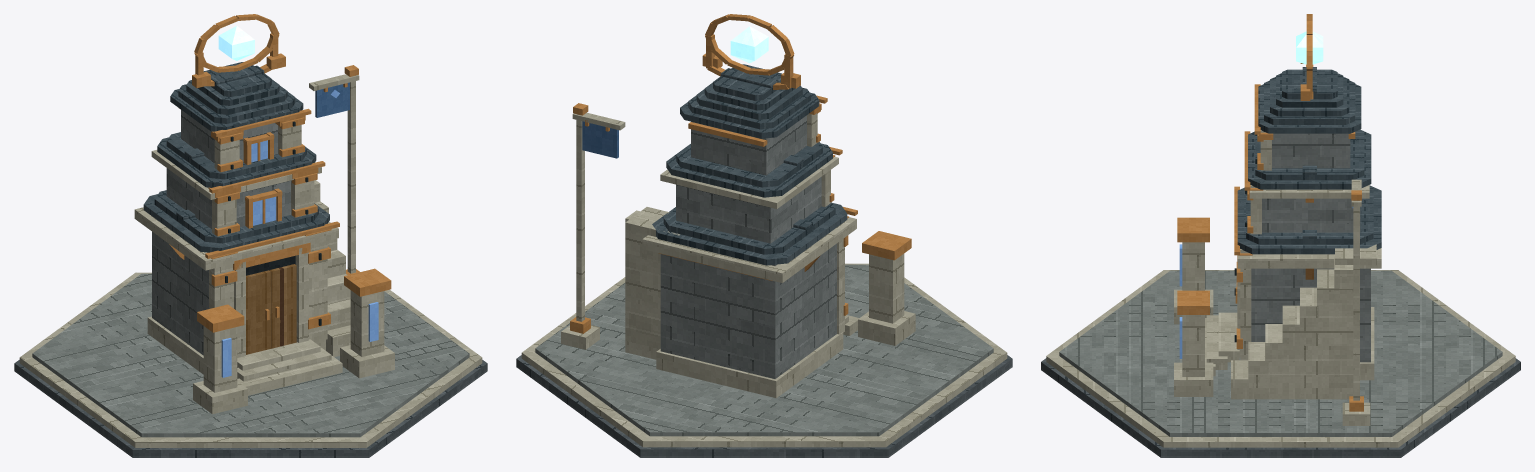
File: dwarf_arcane_ritual_hex_v1.glb
The picture shows the model from 3 angles, left to right: view 1: azimuth 30°, elevation 25°; view 2: azimuth 150°, elevation 25°; view 3: azimuth 270°, elevation 25°; orthographic projection. The views are drawn at different scales.
Parts seen in each view (by area): view 1: Dwarf_Arcane_Ritual_Hex_V1_Foundation, Dwarf_Arcane_Ritual_Hex_V1_Roofs, Dwarf_Arcane_Ritual_Hex_V1_Hall, Dwarf_Arcane_Ritual_Hex_V1_Details, Dwarf_Arcane_Ritual_Hex_V1_Training, Dwarf_Arcane_Ritual_Hex_V1_Courtyard, Dwarf_Arcane_Ritual_Hex_V1_Faction, Dwarf_Arcane_Ritual_Hex_V1_Focus; view 2: Dwarf_Arcane_Ritual_Hex_V1_Foundation, Dwarf_Arcane_Ritual_Hex_V1_Hall, Dwarf_Arcane_Ritual_Hex_V1_Roofs, Dwarf_Arcane_Ritual_Hex_V1_Courtyard, Dwarf_Arcane_Ritual_Hex_V1_Training, Dwarf_Arcane_Ritual_Hex_V1_Faction, Dwarf_Arcane_Ritual_Hex_V1_Focus, Dwarf_Arcane_Ritual_Hex_V1_Details; view 3: Dwarf_Arcane_Ritual_Hex_V1_Foundation, Dwarf_Arcane_Ritual_Hex_V1_Roofs, Dwarf_Arcane_Ritual_Hex_V1_Courtyard, Dwarf_Arcane_Ritual_Hex_V1_Hall, Dwarf_Arcane_Ritual_Hex_V1_Training, Dwarf_Arcane_Ritual_Hex_V1_Details, Dwarf_Arcane_Ritual_Hex_V1_Faction, Dwarf_Arcane_Ritual_Hex_V1_Focus.
Boxes of the visible parts, <box> form: Dwarf_Arcane_Ritual_Hex_V1_Foundation: <box>14,272,487,457</box>; Dwarf_Arcane_Ritual_Hex_V1_Roofs: <box>134,62,339,270</box>; Dwarf_Arcane_Ritual_Hex_V1_Hall: <box>147,110,325,374</box>; Dwarf_Arcane_Ritual_Hex_V1_Details: <box>169,108,331,342</box>; Dwarf_Arcane_Ritual_Hex_V1_Training: <box>193,268,394,414</box>; Dwarf_Arcane_Ritual_Hex_V1_Courtyard: <box>237,180,350,395</box>; Dwarf_Arcane_Ritual_Hex_V1_Faction: <box>309,65,359,274</box>; Dwarf_Arcane_Ritual_Hex_V1_Focus: <box>192,14,285,88</box>; Dwarf_Arcane_Ritual_Hex_V1_Foundation: <box>516,263,1012,457</box>; Dwarf_Arcane_Ritual_Hex_V1_Hall: <box>656,115,843,398</box>; Dwarf_Arcane_Ritual_Hex_V1_Roofs: <box>642,64,857,282</box>; Dwarf_Arcane_Ritual_Hex_V1_Courtyard: <box>625,207,859,359</box>; Dwarf_Arcane_Ritual_Hex_V1_Training: <box>858,231,915,345</box>; Dwarf_Arcane_Ritual_Hex_V1_Faction: <box>561,103,625,349</box>; Dwarf_Arcane_Ritual_Hex_V1_Focus: <box>702,14,800,89</box>; Dwarf_Arcane_Ritual_Hex_V1_Details: <box>658,103,848,334</box>; Dwarf_Arcane_Ritual_Hex_V1_Foundation: <box>1041,270,1520,457</box>; Dwarf_Arcane_Ritual_Hex_V1_Roofs: <box>1234,67,1381,268</box>; Dwarf_Arcane_Ritual_Hex_V1_Courtyard: <box>1205,244,1376,399</box>; Dwarf_Arcane_Ritual_Hex_V1_Hall: <box>1237,133,1374,380</box>; Dwarf_Arcane_Ritual_Hex_V1_Training: <box>1174,217,1213,396</box>; Dwarf_Arcane_Ritual_Hex_V1_Details: <box>1234,130,1355,360</box>; Dwarf_Arcane_Ritual_Hex_V1_Faction: <box>1342,179,1370,425</box>; Dwarf_Arcane_Ritual_Hex_V1_Focus: <box>1296,14,1323,100</box>.
Bounding box in the file's own units: 1.59 × 1.48 × 1.84.
1 material, 1 textured.
